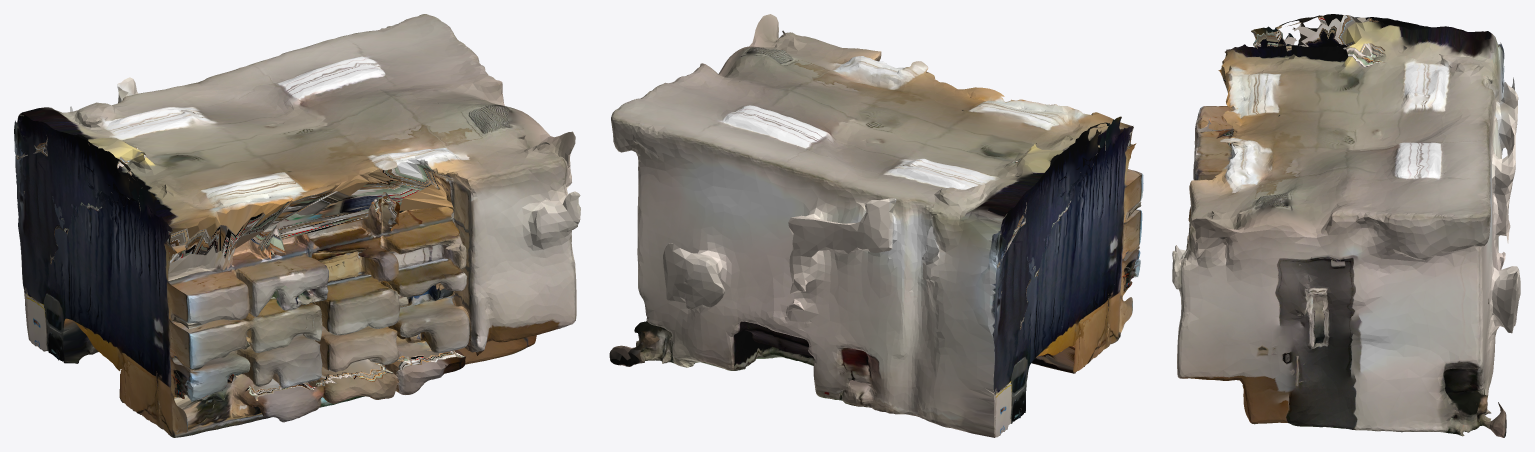
Rendered from Final_scan.glb.
3 renders of one model, left to right at view 1: azimuth 30°, elevation 25°; view 2: azimuth 150°, elevation 25°; view 3: azimuth 270°, elevation 25°, orthographic. The views are drawn at different scales.
Parts seen in each view (by area): view 1: Scan; view 2: Scan; view 3: Scan.
Part boxes in pixels (x1,y1,x2,y2): Scan: (14, 14, 580, 437); Scan: (609, 14, 1143, 437); Scan: (1172, 14, 1520, 437).
Bounding box in the file's own units: 6 × 3.71 × 4.73.
Materials: 3 (3 with a texture image).
